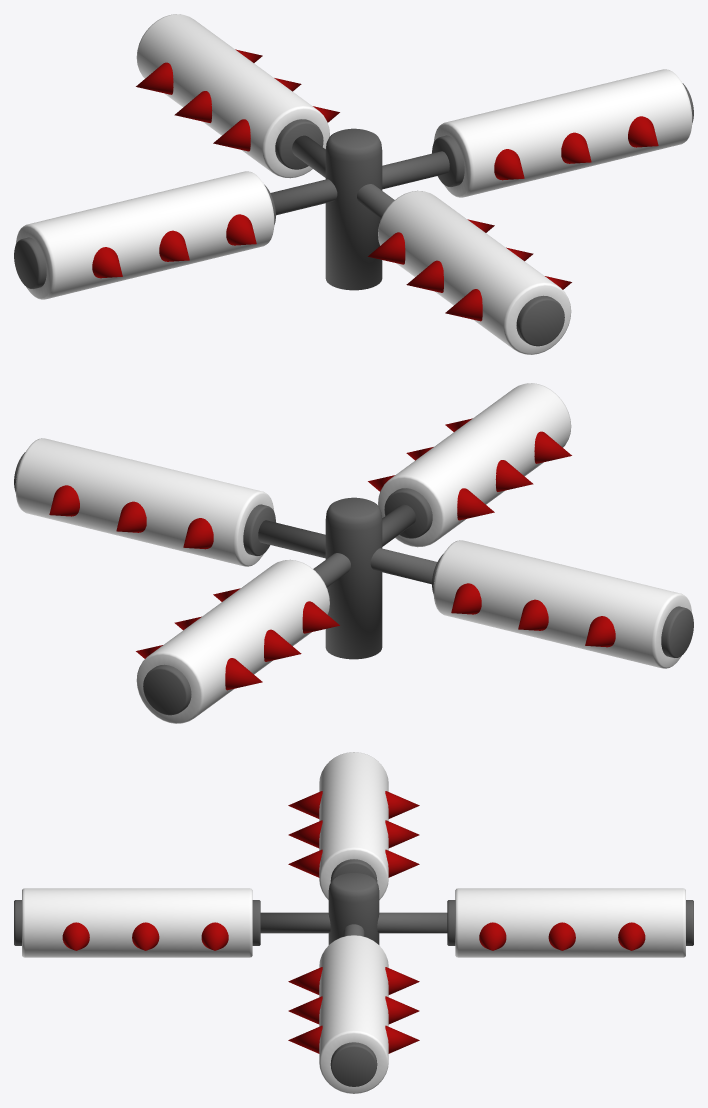
File: SpikeCylinder4.fbx
3 views of the same model, one above another, from view 1: azimuth 30°, elevation 25°; view 2: azimuth 150°, elevation 25°; view 3: azimuth 270°, elevation 25° (orthographic). The views are drawn at different scales.
Visible parts, largest first — view 1: SpikeCylinder4; view 2: SpikeCylinder4; view 3: SpikeCylinder4.
Boxes of the visible parts, box(x1,y1,x2,y2) form: SpikeCylinder4: box(14, 14, 693, 354); SpikeCylinder4: box(14, 383, 693, 723); SpikeCylinder4: box(14, 752, 693, 1093).
Size of the model in its own units: 4.9 by 4.9 by 1.
